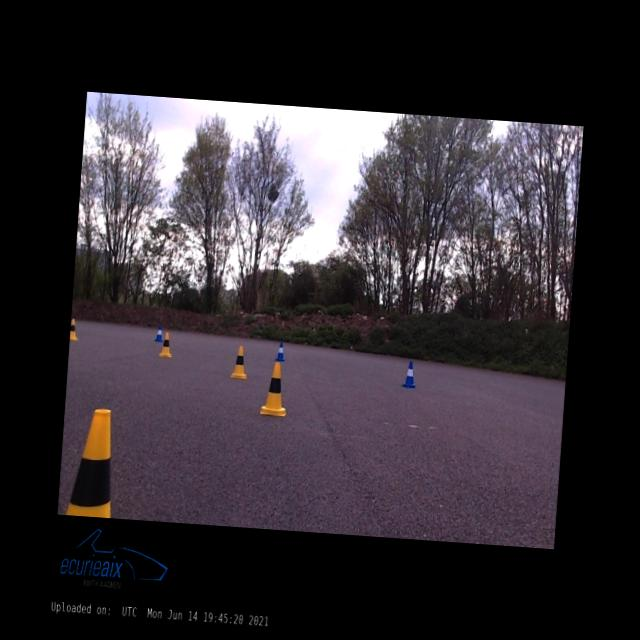blue_cone: (401, 361, 417, 388), (154, 324, 164, 340), (276, 342, 285, 359)
yellow_cone: (66, 407, 116, 517), (260, 362, 289, 416), (230, 344, 249, 378), (158, 332, 172, 356), (70, 318, 78, 340)
